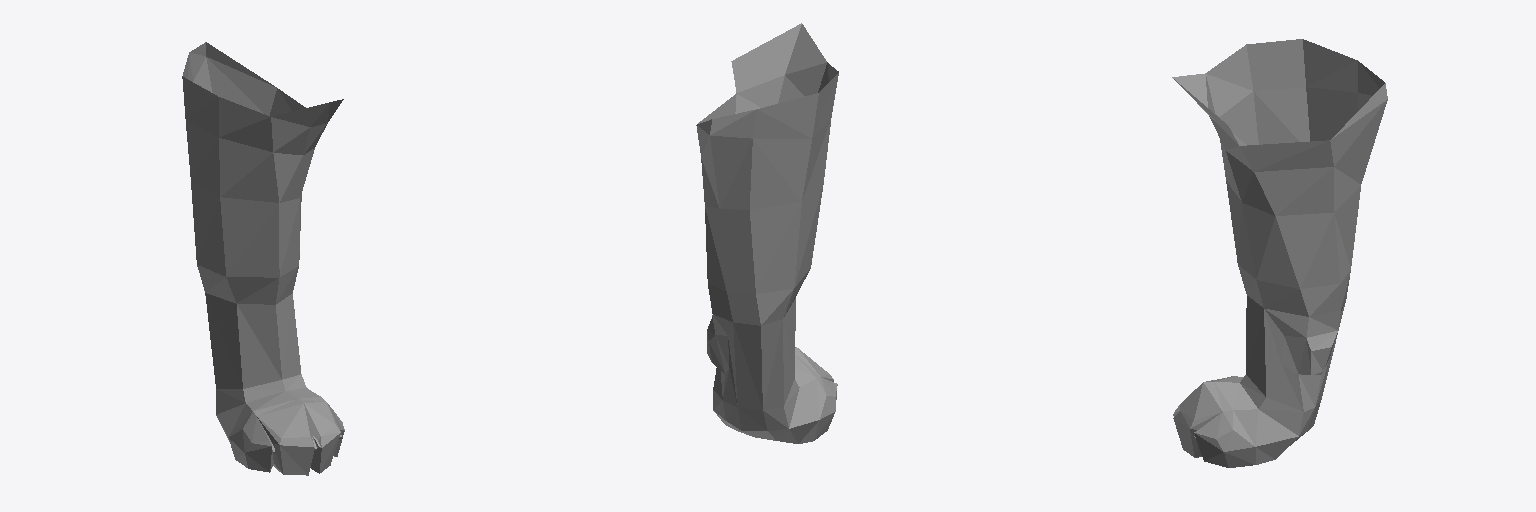
Rendered from paw.obj.
3 renders of one model, left to right at view 1: azimuth 30°, elevation 25°; view 2: azimuth 150°, elevation 25°; view 3: azimuth 270°, elevation 25°, orthographic.
Visible parts, largest first — view 1: Mesh; view 2: Mesh; view 3: Mesh.
Boxes of the visible parts, box(x1,y1,x2,y2) form: Mesh: box(182, 42, 344, 475); Mesh: box(696, 23, 838, 443); Mesh: box(1172, 39, 1387, 467).
Bounding box in the file's own units: 0.1058 × 0.3057 × 0.1588.